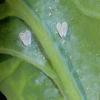whitefly: (17, 29, 32, 46), (56, 22, 69, 39)
